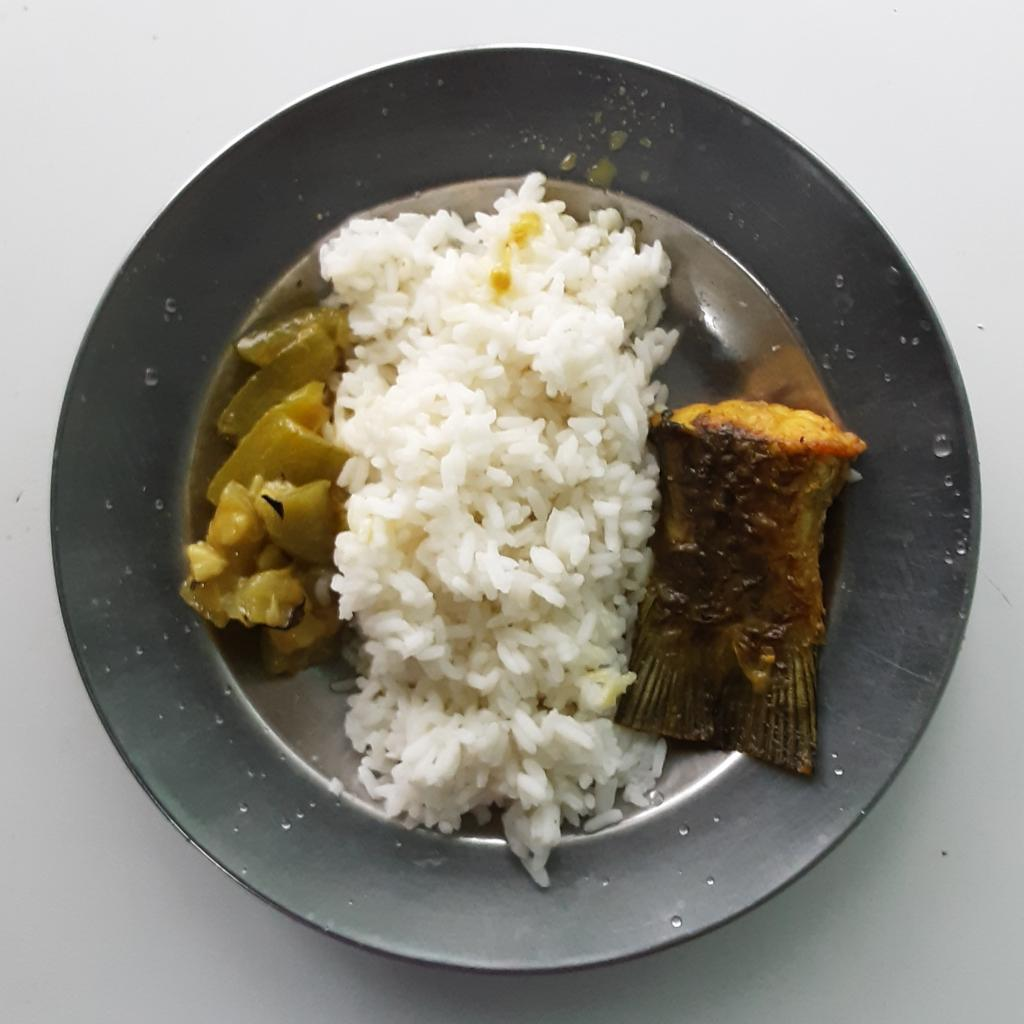dundol: (179, 305, 356, 671)
fish: (613, 402, 866, 774)
rice: (317, 176, 682, 896)
